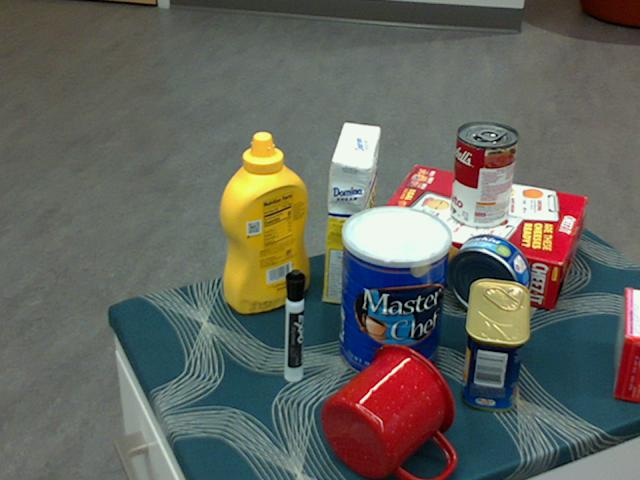cracker_box: (370, 167, 584, 307)
gelatin_box: (613, 288, 639, 403)
large_marker: (282, 268, 303, 383)
master_chef_can: (339, 205, 453, 383)
mug: (320, 343, 457, 479)
mustard_bottle: (218, 131, 309, 313)
potted_meat_can: (462, 279, 532, 412)
sugar_box: (321, 123, 381, 308)
tomato_soup_can: (451, 122, 519, 230)
tuna_fish_can: (447, 233, 532, 316)
